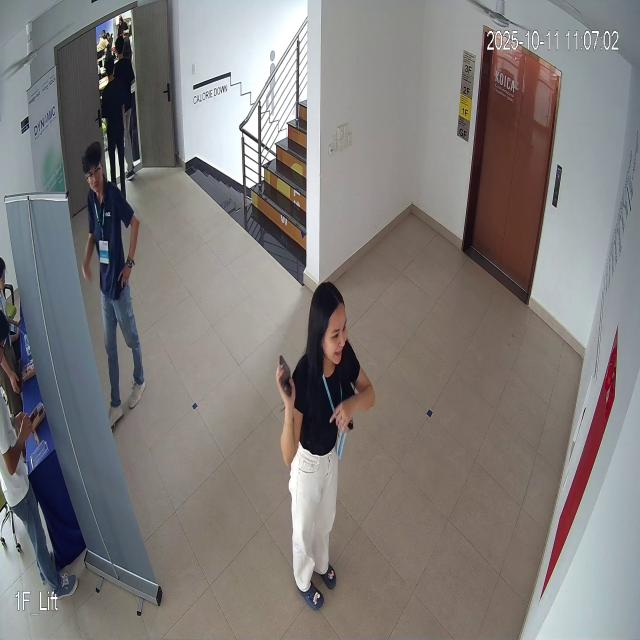face: (304, 272, 354, 378), (80, 136, 115, 205)
